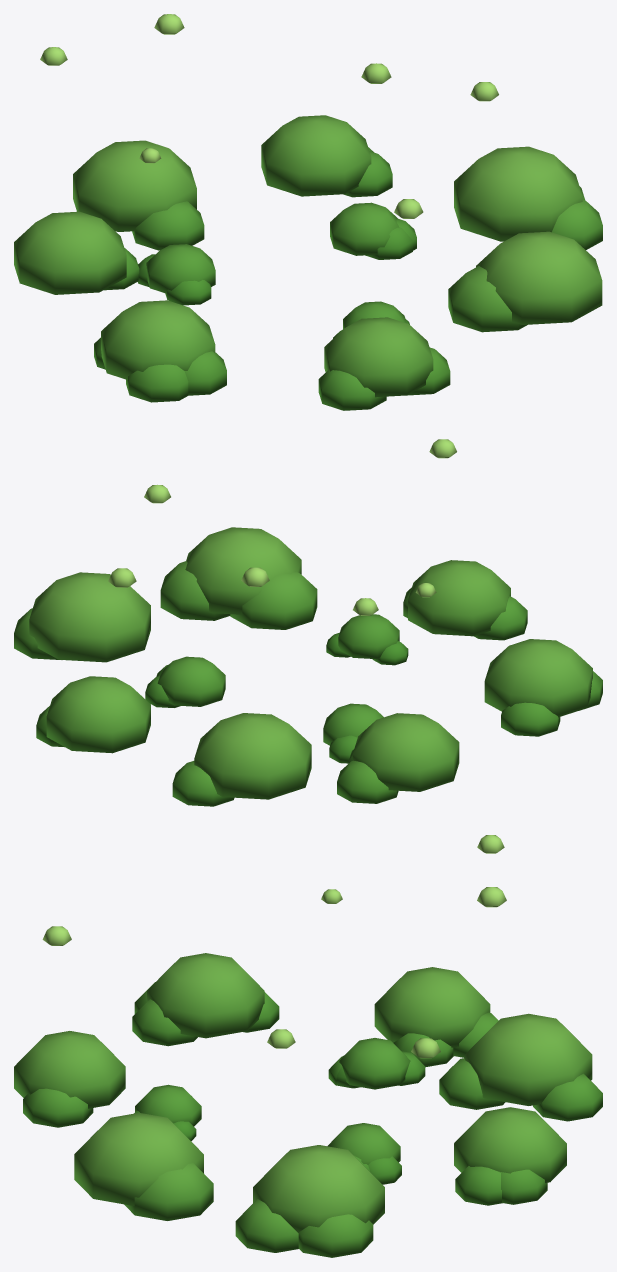
File: FX_Gas.fbx
3 renders of one model, top to bottom at view 1: azimuth 30°, elevation 25°; view 2: azimuth 150°, elevation 25°; view 3: azimuth 270°, elevation 25°, orthographic. The views are drawn at different scales.
Visible parts, largest first — view 1: FX_Gas; view 2: FX_Gas; view 3: FX_Gas.
Boxes of the visible parts, x1,y1,x2,y2 form: FX_Gas: (14,14,602,410); FX_Gas: (14,439,602,806); FX_Gas: (14,835,602,1257).
Size of the model in its own units: 2.13 by 0.8289 by 2.03.
